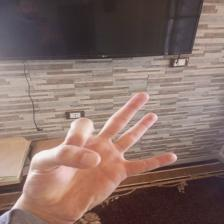five: (36, 94, 177, 195)
